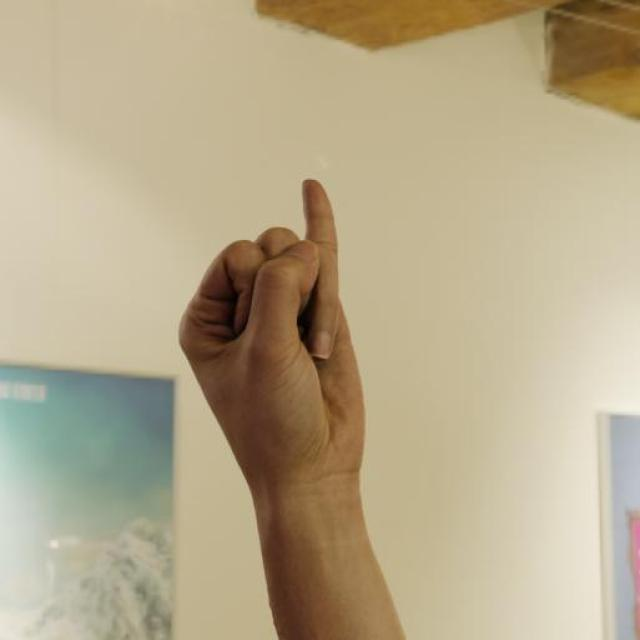I: (175, 176, 369, 489)
